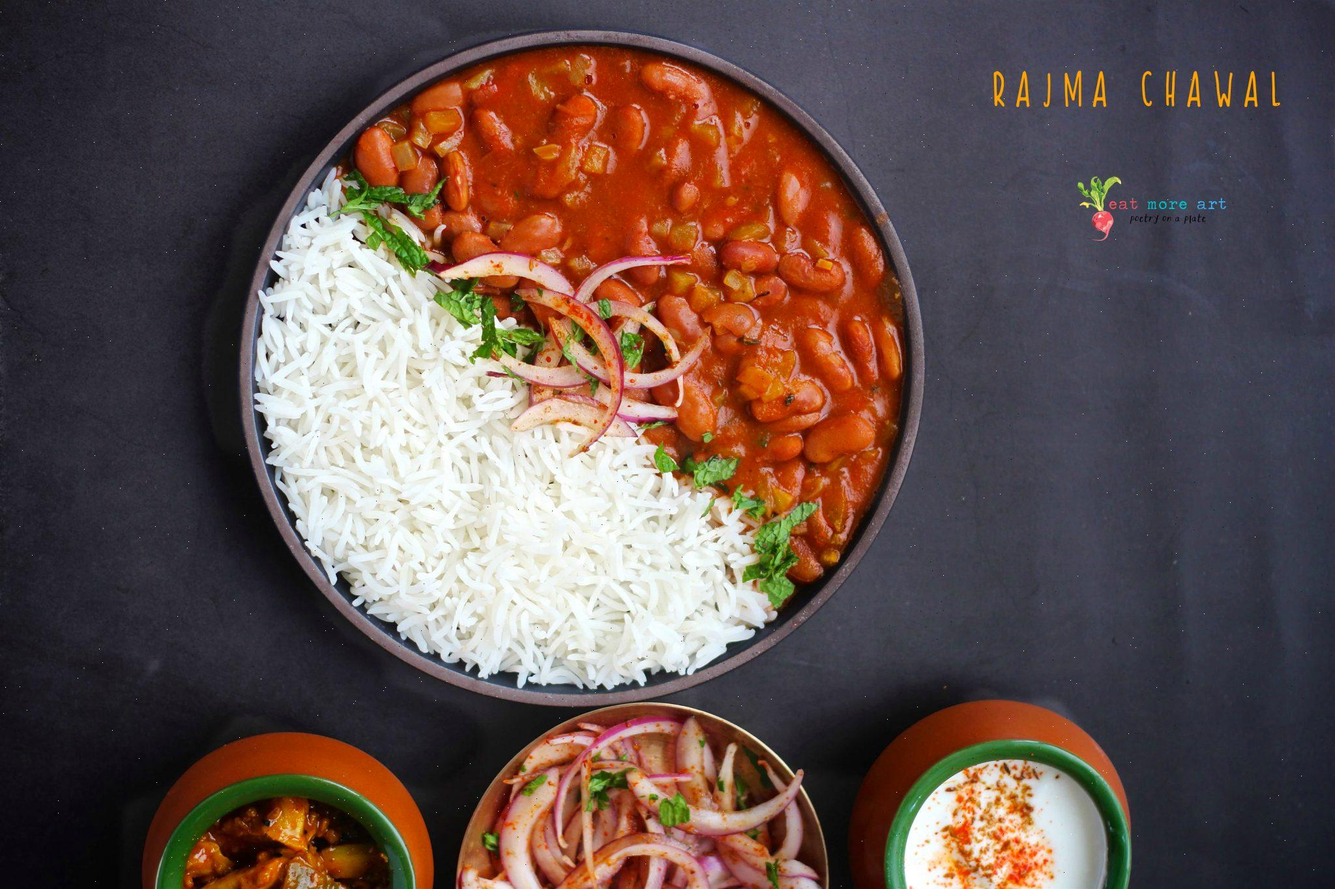rajma: (502, 56, 884, 360)
rice: (293, 369, 626, 686)
